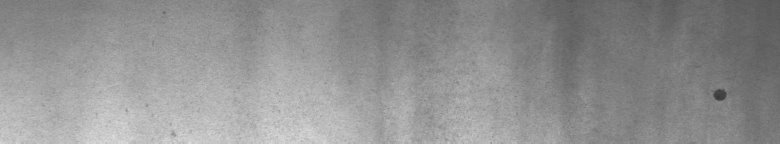fi: (707, 80, 732, 108)
